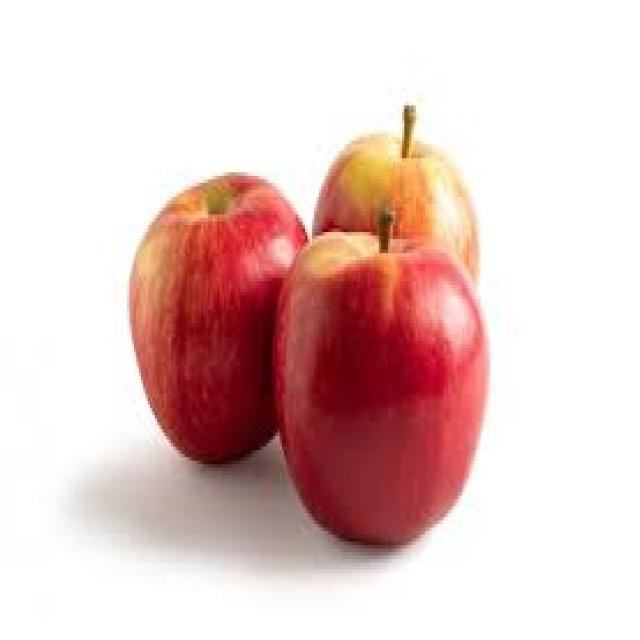agrume: (263, 209, 506, 554), (116, 102, 324, 489), (311, 118, 522, 430)
